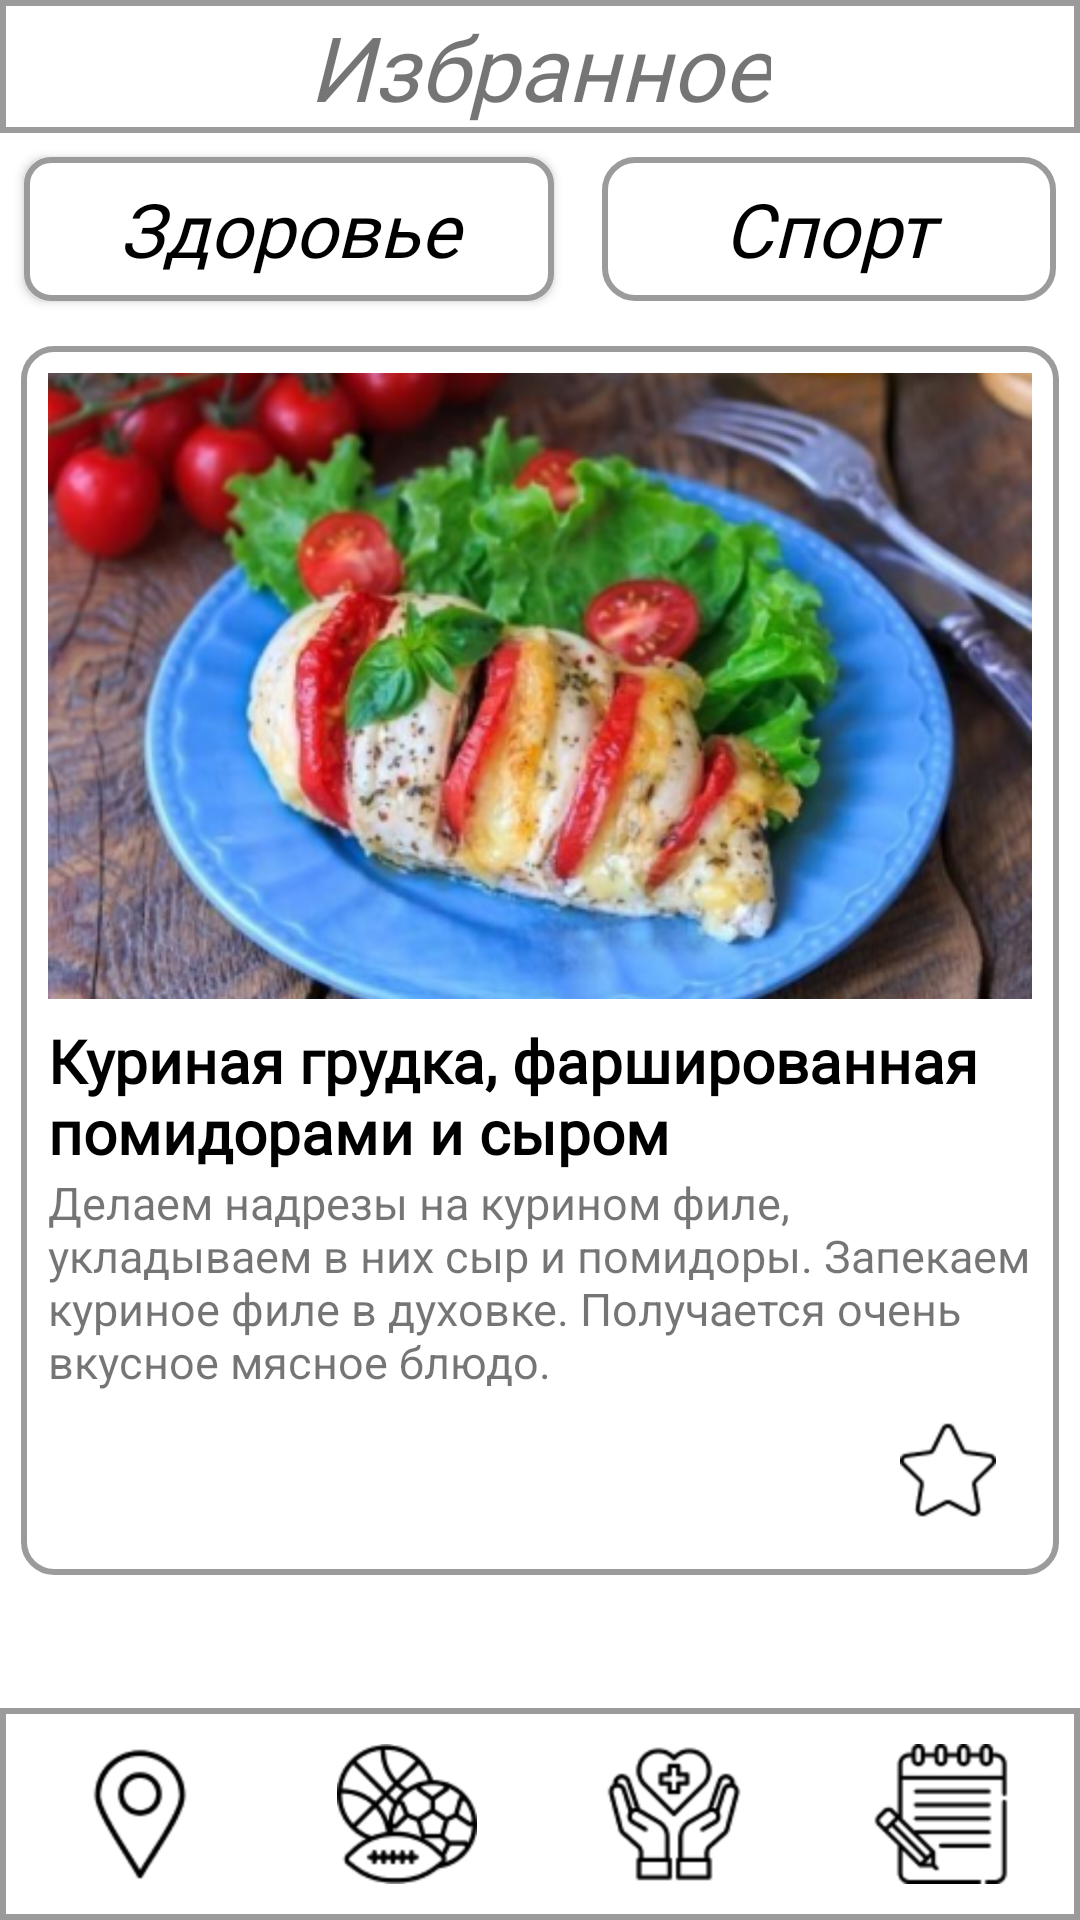

Screen size 1080 × 1920. Icon name, then its box in pixels as detection(x1, y1, x2, y2):
Добавить заметку: detection(807, 1714, 1074, 1914)
Здоровье: detection(607, 1747, 741, 1881)
Избранное: detection(900, 1423, 996, 1517)
Карта магазинов: detection(6, 1714, 273, 1914)
Спорт: detection(337, 1744, 477, 1884)
